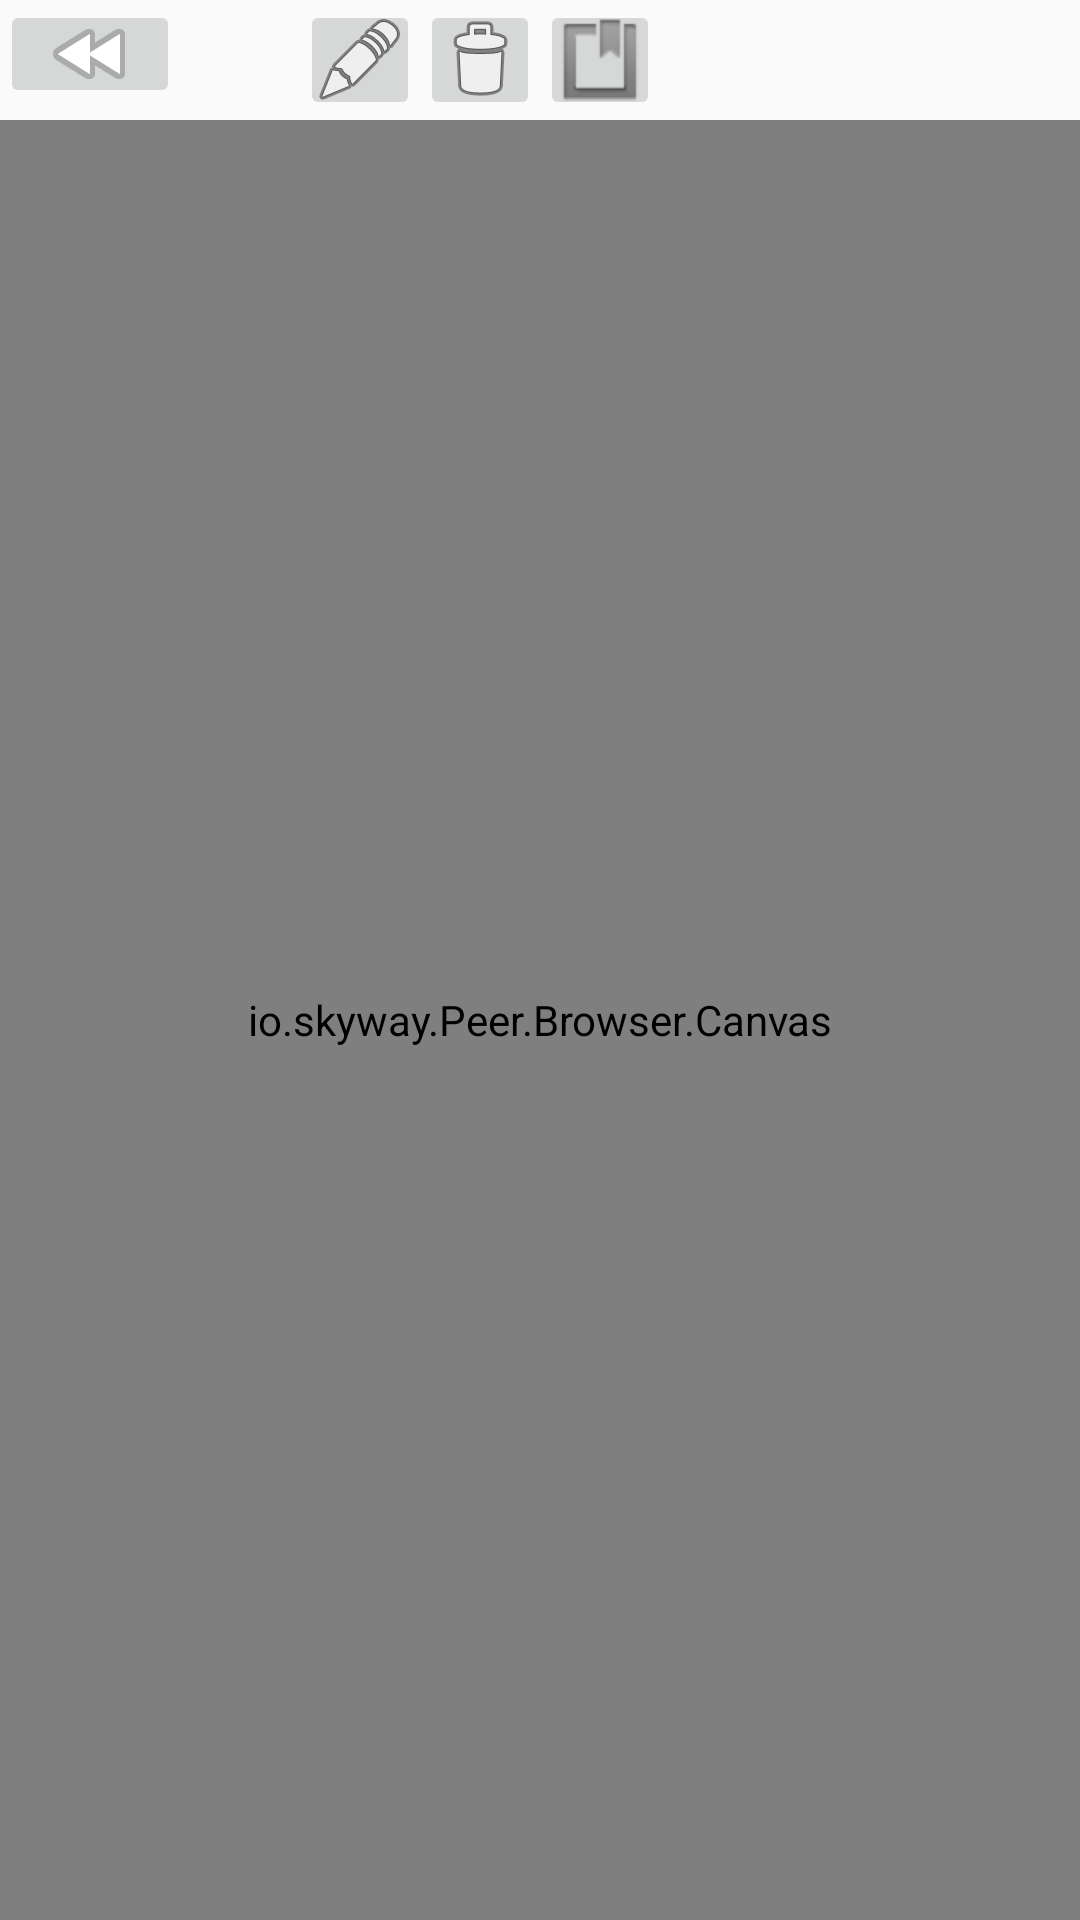

Named icons in this screenshot (1080w x 1920h) and their centers, point (x, y):
delete: point (480, 60)
edit: point (360, 60)
rew: point (90, 54)
